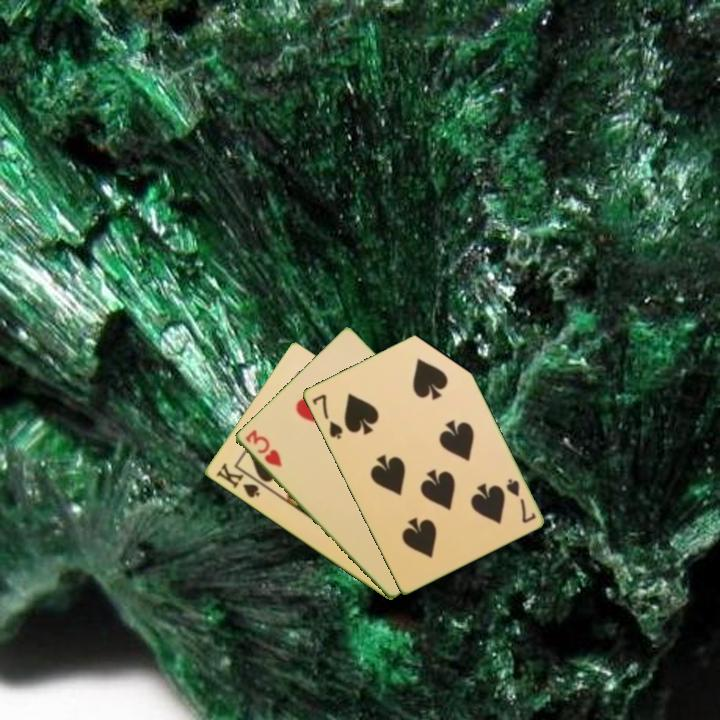3h: (241, 426, 285, 470)
7s: (308, 390, 345, 442), (502, 475, 539, 526)
Ks: (212, 459, 262, 501)
